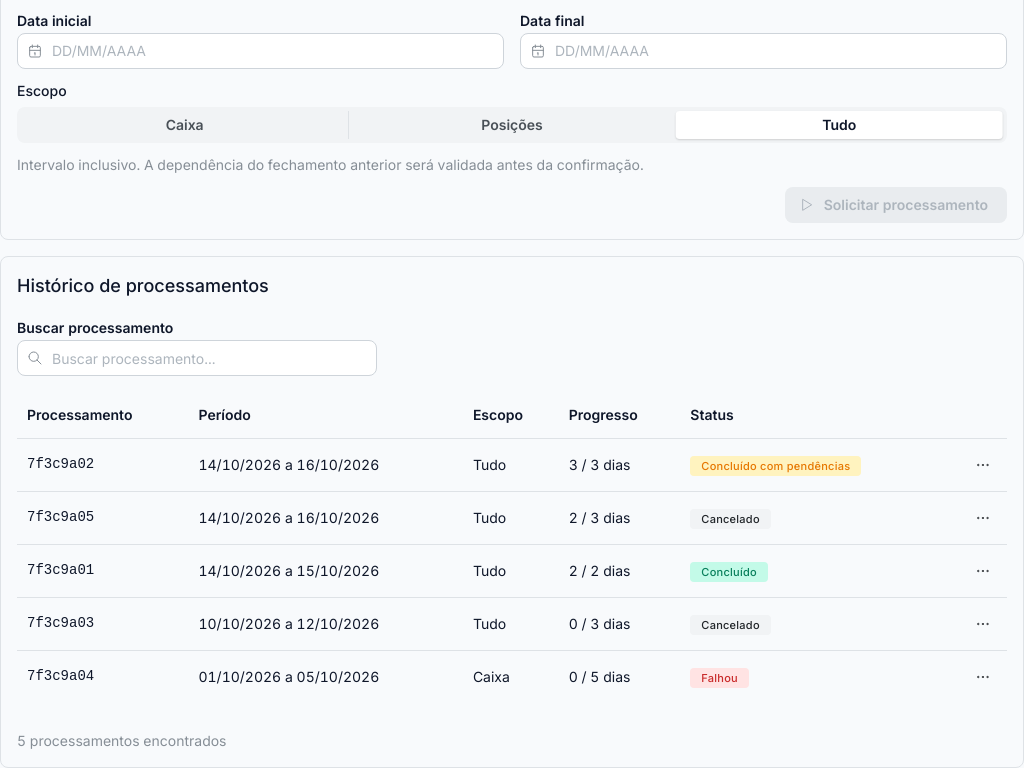
Test: Processamentos: history (§11.1, §10.3) › OQ-20 OQ-21 OQ-23 prefills a new request from the failed date, with the scope of the run
(page scrolled)
Click the button named "Ações do processamento" at x=983, y=677, box [969,663,997,691]
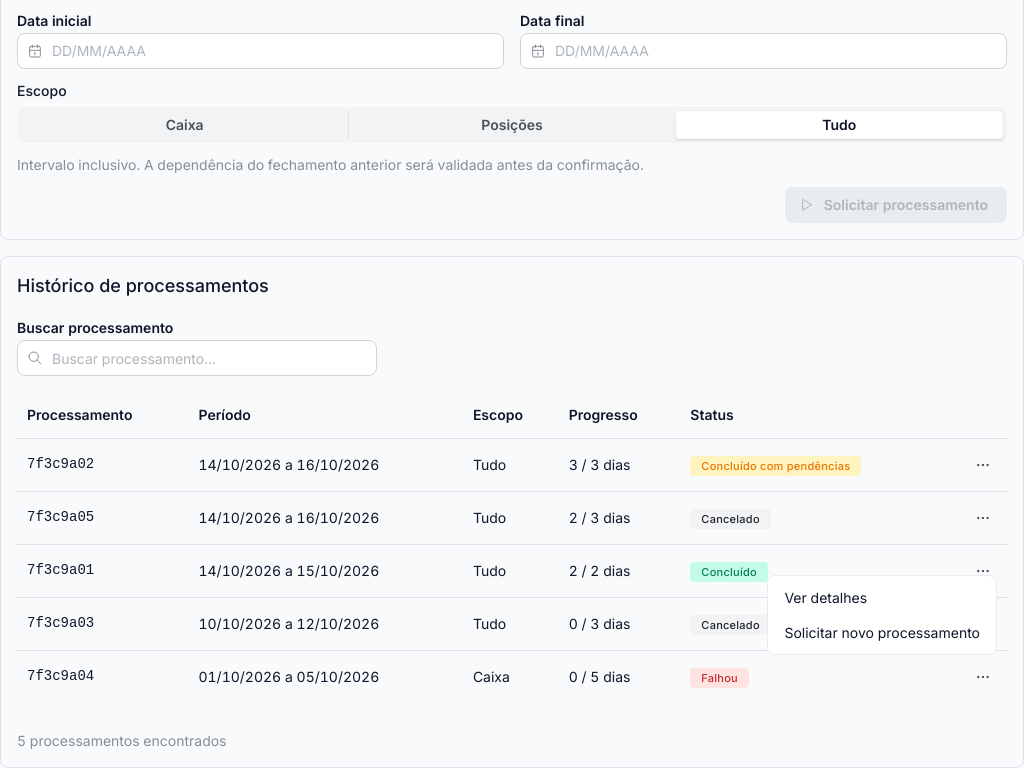
Click the menu item "Solicitar novo processamento" at x=882, y=632, box [772,615,992,650]
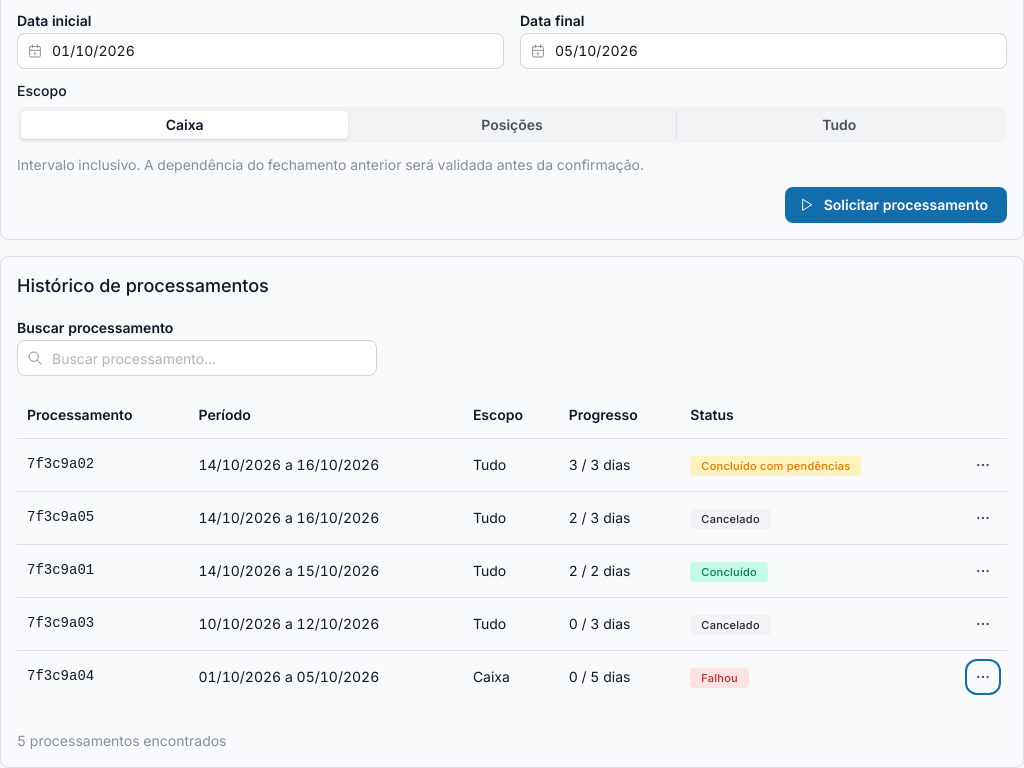
Expected: the radio button labelled "Caixa" is checked, [166,116,204,133]
Expected: the field labelled "Data inicial" holds "01/10/2026", [17,33,504,69]
Expected: the field labelled "Data final" holds "05/10/2026", [520,33,1007,69]
